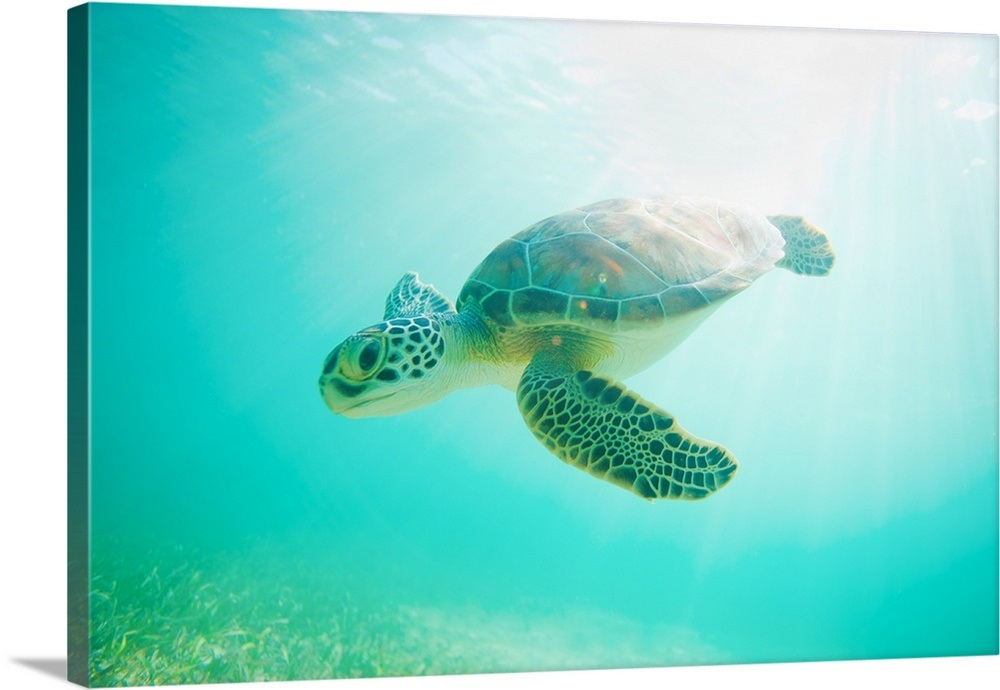trutle: (303, 156, 889, 551)
